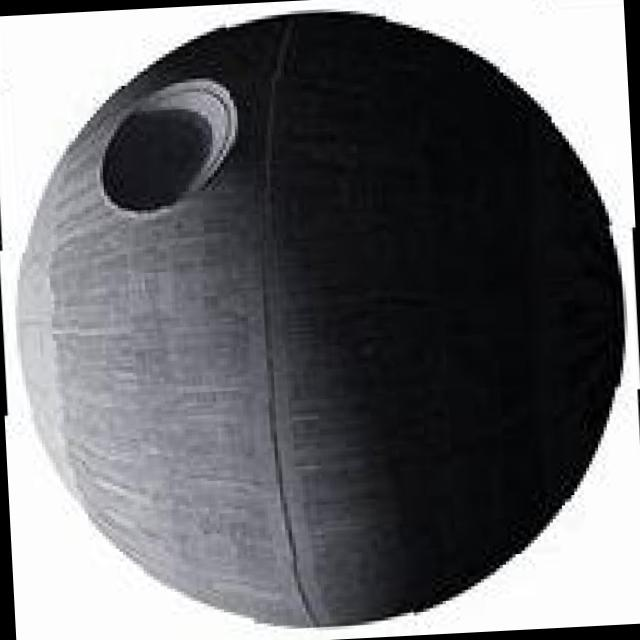Death Star: (6, 0, 621, 636)
